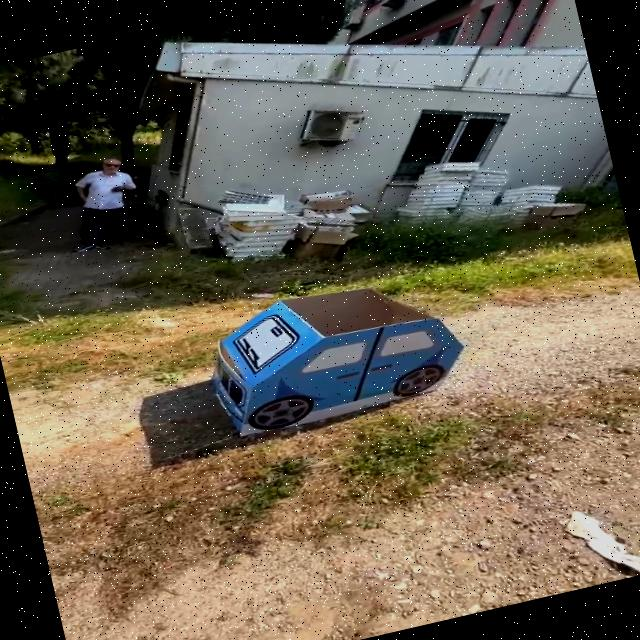blue_car: (168, 245, 497, 468)
